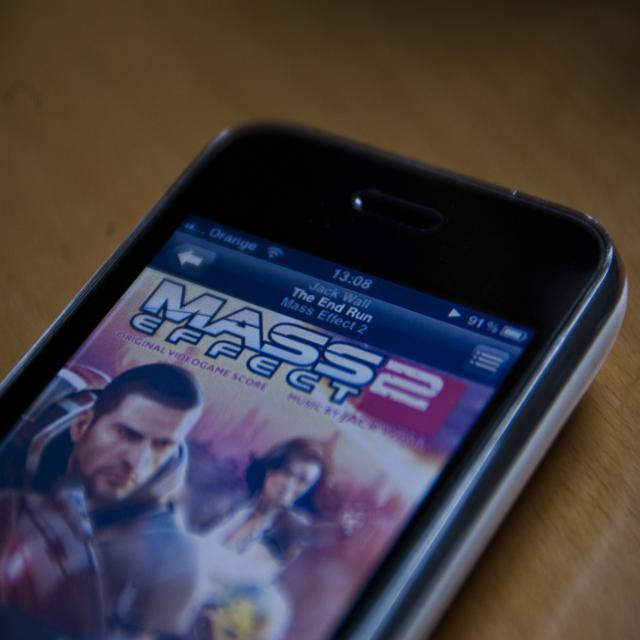Mobile phone: (0, 103, 640, 626)
